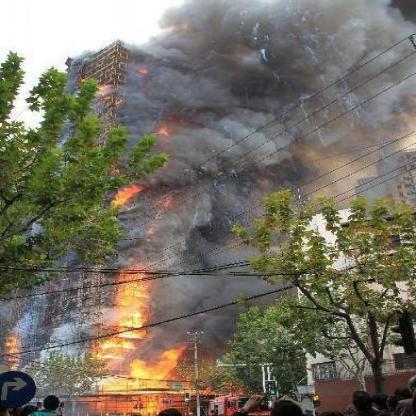fire: (100, 268, 196, 395), (112, 184, 169, 228)
smoke: (127, 1, 388, 242)
